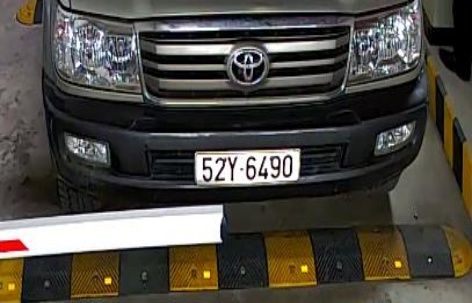plate: (185, 142, 311, 190)
